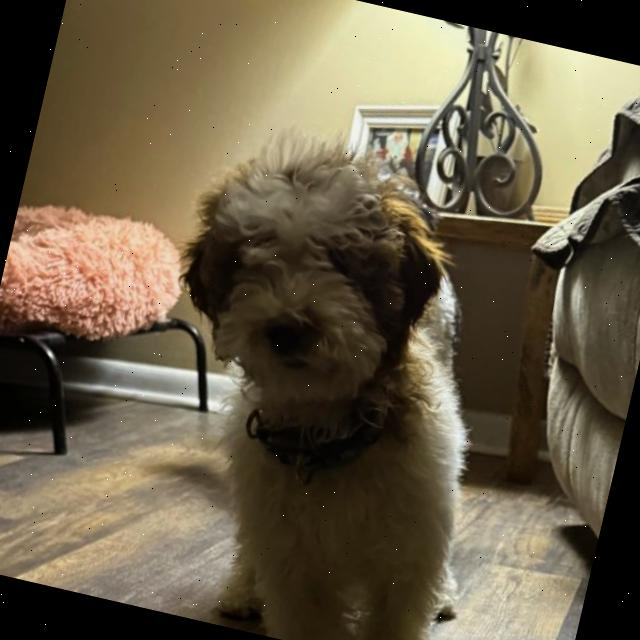Poodle_dog: (130, 88, 500, 478)
